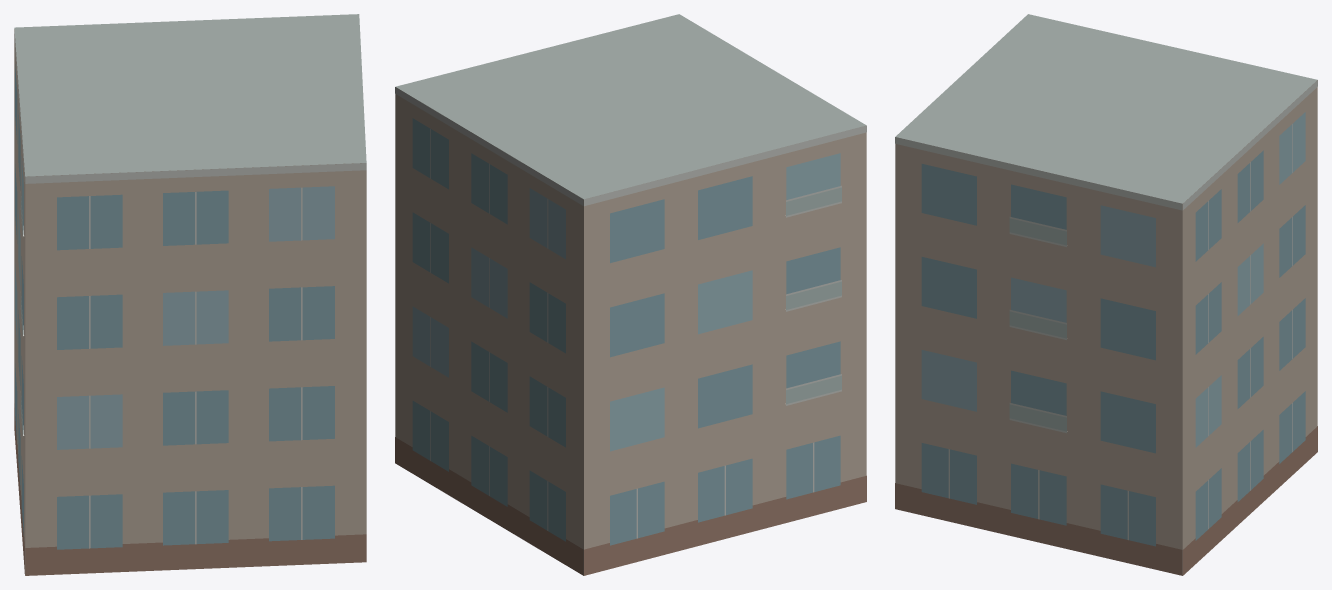
File: survey-upis-32679411.glb
The picture shows the model from 3 angles, left to right: view 1: azimuth 30°, elevation 25°; view 2: azimuth 150°, elevation 25°; view 3: azimuth 270°, elevation 25°; orthographic projection. The views are drawn at different scales.
Parts seen in each view (by area): view 1: survey-upis-32679411.tmp; view 2: survey-upis-32679411.tmp; view 3: survey-upis-32679411.tmp.
Boxes of the visible parts, x1,y1,x2,y2 form: survey-upis-32679411.tmp: [14, 14, 366, 575]; survey-upis-32679411.tmp: [395, 14, 866, 575]; survey-upis-32679411.tmp: [895, 14, 1317, 575].
Size of the model in its own units: 14.44 by 13.2 by 13.6.
